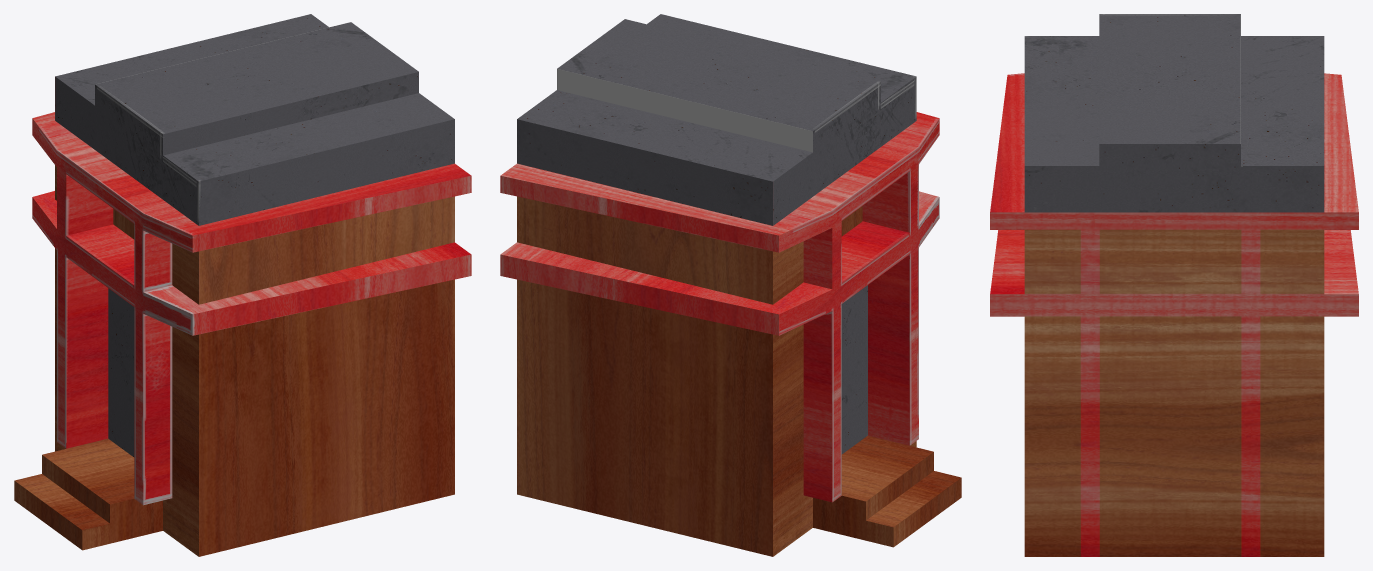
The model's file is ChaosZooCityMapTower01.fbx.
3 views of the same model, side by side, from view 1: azimuth 30°, elevation 25°; view 2: azimuth 150°, elevation 25°; view 3: azimuth 270°, elevation 25° (orthographic). The views are drawn at different scales.
Parts seen in each view (by area): view 1: pCube3; view 2: pCube3; view 3: pCube3.
Boxes of the visible parts, box(x1,y1,x2,y2) form: pCube3: box(14, 14, 471, 556); pCube3: box(500, 14, 961, 556); pCube3: box(990, 14, 1358, 556).
Size of the model in its own units: 53.8 by 60.54 by 49.01.
